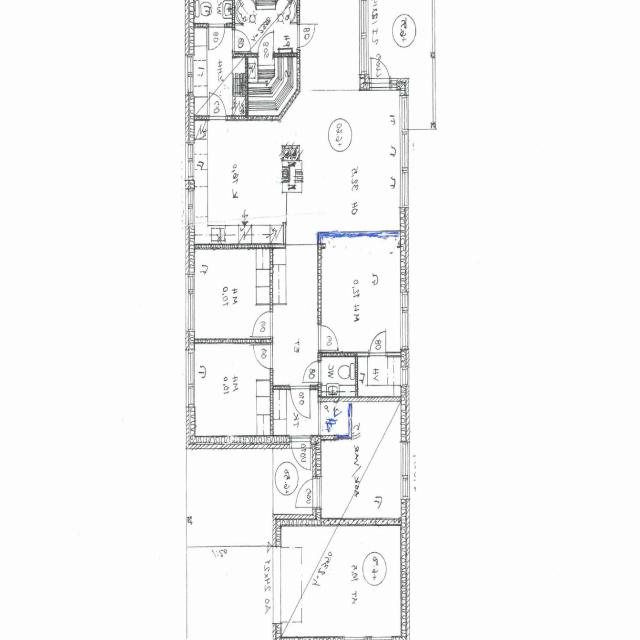door: (292, 478, 321, 508), (291, 436, 310, 475), (371, 52, 389, 90), (290, 386, 310, 416), (252, 345, 273, 370), (252, 312, 273, 337), (209, 91, 226, 120), (318, 326, 338, 350), (370, 329, 386, 356), (208, 23, 224, 50), (297, 24, 316, 46), (258, 31, 273, 57), (303, 361, 321, 382), (232, 30, 250, 51)
